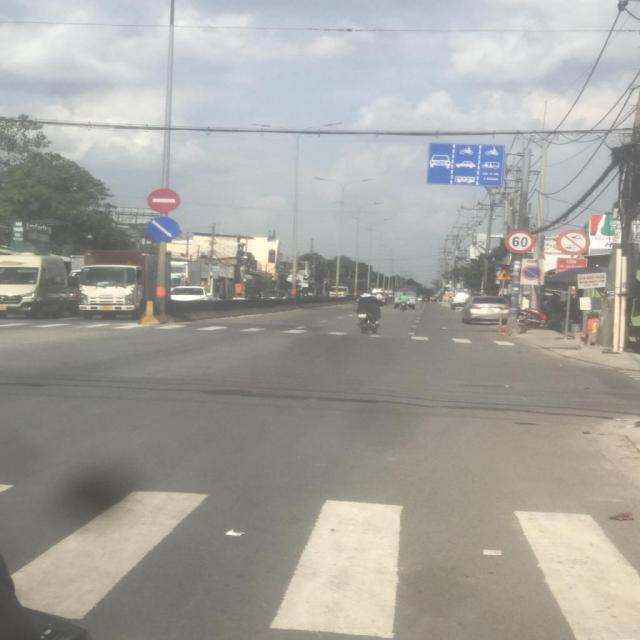cam_cac_loai_xe_3_banh: (558, 230, 590, 256)
cam_do_xe: (522, 265, 541, 280)
cam_xe_di_nguoc_chieu: (147, 189, 181, 212)
giao_nhau_voi_duong_khong_uu_tien: (496, 269, 512, 280)
huong_phai_di_vuot_chuong_ngai_vat_phai: (146, 217, 178, 241)
lan_duong_cho_tung_xe_theo_vach_ke_duong: (428, 142, 504, 185)
toc_do_toi_da_60: (504, 230, 536, 254)
